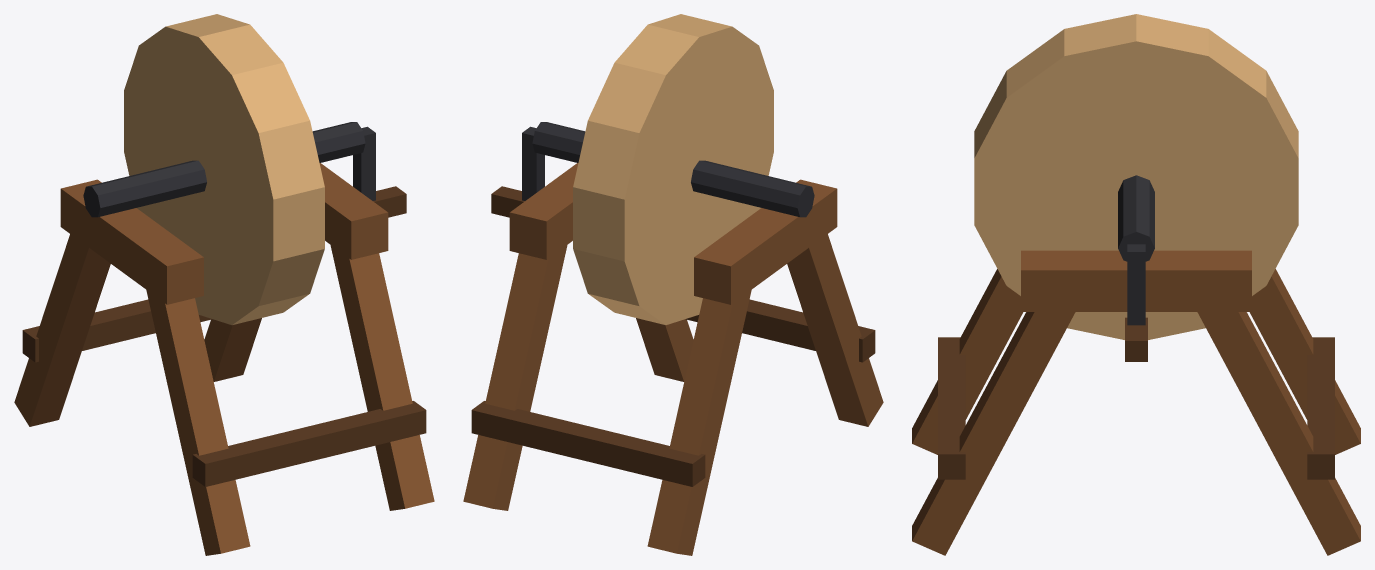
File: Grindstone.fbx
3 renders of one model, left to right at view 1: azimuth 30°, elevation 25°; view 2: azimuth 150°, elevation 25°; view 3: azimuth 270°, elevation 25°, orthographic. The views are drawn at different scales.
Parts seen in each view (by area): view 1: Grindstone; view 2: Grindstone; view 3: Grindstone.
Part boxes in pixels (box(x1,y1,x2,y2)): Grindstone: box(14, 14, 434, 555); Grindstone: box(463, 14, 883, 555); Grindstone: box(912, 14, 1360, 555).
Bounding box in the file's own units: 0.84 × 1.13 × 0.972.
